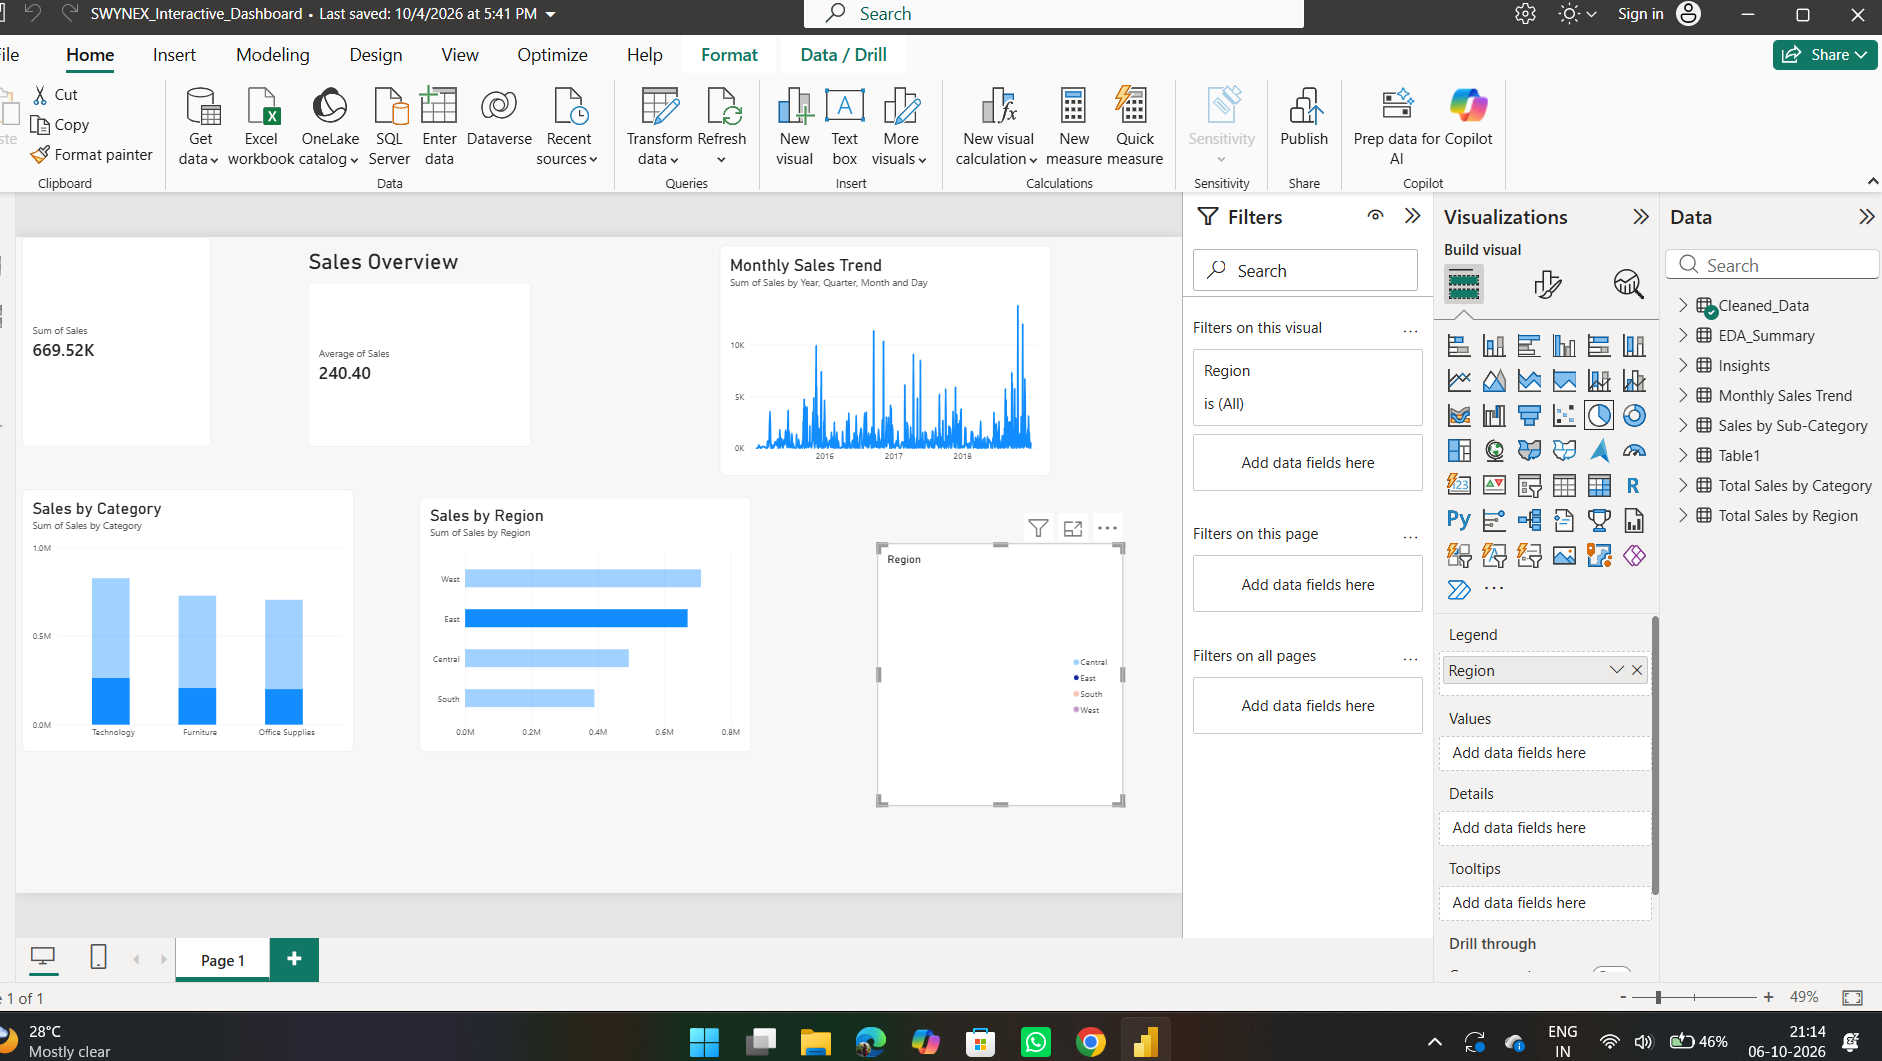

This screenshot's page, from the dashboard's own definition file:
{"tool":"powerbi","page":{"name":"Page 1","canvas":[1920,1080],"ordinal":0},"visuals":[{"type":"cardVisual","fields":{"Data":["Sum(Cleaned_Data.Sales)"]},"box":[10.3,0,310.8,345.8],"z":0},{"type":"cardVisual","title":"Sales Overview","fields":{"Data":["Avg(Cleaned_Data.Sales)"]},"box":[481.6,18.5,366.4,327.3],"z":1},{"type":"clusteredColumnChart","title":"Sales by Category","fields":{"Category":["Cleaned_Data.Category"],"Y":["Sum(Cleaned_Data.Sales)"]},"box":[10.3,415.8,545.5,432.2],"z":2},{"type":"clusteredBarChart","title":"Sales by Region","fields":{"Category":["Cleaned_Data.Region"],"Y":["Sum(Cleaned_Data.Sales)"]},"box":[664.8,428.1,545.5,419.9],"z":3},{"type":"lineChart","title":"Monthly Sales Trend","fields":{"Category":["Cleaned_Data.Order Date.Variation.Date Hierarchy.Year","Cleaned_Data.Order Date.Variation.Date Hierarchy.Quarter","Cleaned_Data.Order Date.Variation.Date Hierarchy.Month","Cleaned_Data.Order Date.Variation.Date Hierarchy.Day"],"Y":["Sum(Cleaned_Data.Sales)"]},"box":[1158.8,14.4,545.5,378.7],"z":4},{"type":"pieChart","fields":{"Category":["Cleaned_Data.Region"]},"box":[1418.2,504.3,405.5,432.2],"z":5}]}

Visuals, with their boxes on the page's 1920x1080 design canvas (x1, y1, x2, y2). These are canvas units, not pixel positions in the 1882x1061 screenshot, which may show the page scaled, cropped or inside an application window:
cardVisual - Sum(Cleaned_Data.Sales): box=[10, 0, 321, 346]
"Sales Overview" cardVisual: box=[482, 18, 848, 346]
"Sales by Category" clusteredColumnChart: box=[10, 416, 556, 848]
"Sales by Region" clusteredBarChart: box=[665, 428, 1210, 848]
"Monthly Sales Trend" lineChart: box=[1159, 14, 1704, 393]
pieChart - Cleaned_Data.Region: box=[1418, 504, 1824, 936]
